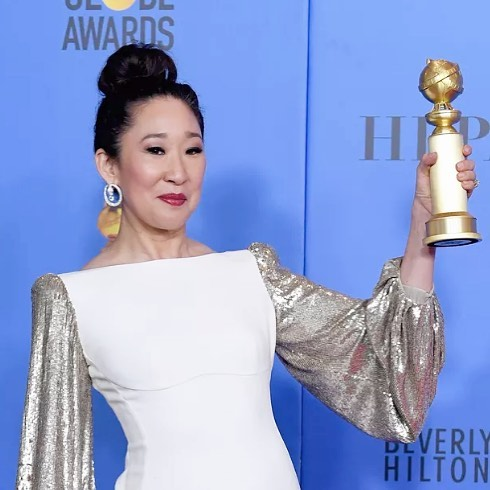hand: (418, 148, 474, 225)
